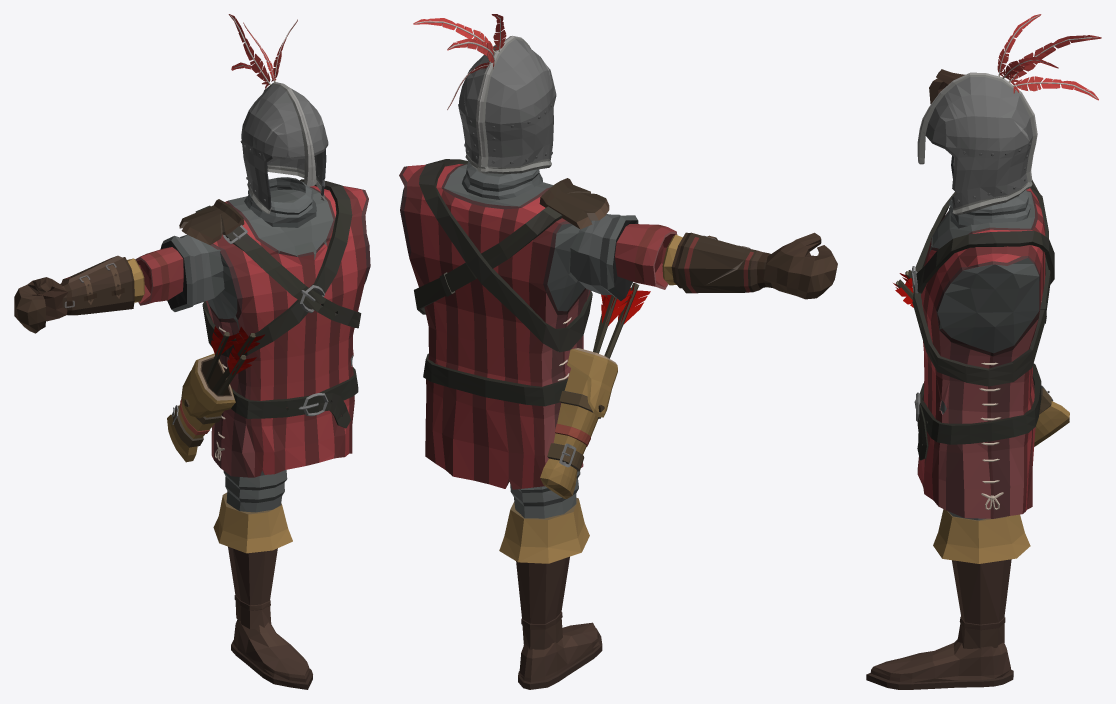
The model's file is stripedArmor.glb.
3 views of the same model, side by side, from view 1: azimuth 30°, elevation 25°; view 2: azimuth 150°, elevation 25°; view 3: azimuth 270°, elevation 25° (orthographic). The views are drawn at different scales.
Parts seen in each view (by area): view 1: stripedArmor, stripedArmorBelt, stripedArmorHelm, stripedArmorLowerLeg, yellowSideQuiver, stripedArmorUpperArm, stripedArmorLowerArm, stripedArmorFootLeg, stripedArmorHandArm, stripedArmorUpperLeg, crossBowKnighta; view 2: stripedArmor, stripedArmorBelt, stripedArmorHelm, yellowSideQuiver, stripedArmorLowerLeg, stripedArmorUpperArm, stripedArmorLowerArm, stripedArmorHandArm, stripedArmorFootLeg, crossBowKnighta, stripedArmorUpperLeg; view 3: stripedArmor, stripedArmorHelm, stripedArmorBelt, stripedArmorLowerLeg, stripedArmorFootLeg, yellowSideQuiver, crossBowKnighta, stripedArmorHandArm.
Boxes of the visible parts, left/top/right/bottom form: stripedArmor: left=206, top=185, right=370, bottom=477; stripedArmorBelt: left=179, top=179, right=361, bottom=428; stripedArmorHelm: left=228, top=14, right=328, bottom=213; stripedArmorLowerLeg: left=213, top=492, right=292, bottom=629; yellowSideQuiver: left=167, top=326, right=264, bottom=462; stripedArmorUpperArm: left=135, top=234, right=224, bottom=311; stripedArmorLowerArm: left=60, top=255, right=144, bottom=315; stripedArmorFootLeg: left=231, top=620, right=312, bottom=689; stripedArmorHandArm: left=14, top=277, right=67, bottom=333; stripedArmorUpperLeg: left=223, top=470, right=287, bottom=512; crossBowKnighta: left=244, top=177, right=316, bottom=227; stripedArmor: left=399, top=164, right=590, bottom=489; stripedArmorBelt: left=414, top=159, right=609, bottom=406; stripedArmorHelm: left=413, top=14, right=556, bottom=174; yellowSideQuiver: left=540, top=283, right=650, bottom=498; stripedArmorLowerLeg: left=499, top=497, right=589, bottom=649; stripedArmorUpperArm: left=570, top=214, right=677, bottom=300; stripedArmorLowerArm: left=662, top=232, right=773, bottom=293; stripedArmorHandArm: left=763, top=232, right=837, bottom=299; stripedArmorFootLeg: left=518, top=622, right=602, bottom=689; crossBowKnighta: left=462, top=161, right=542, bottom=199; stripedArmorUpperLeg: left=510, top=471, right=580, bottom=518; stripedArmor: left=917, top=188, right=1045, bottom=518; stripedArmorHelm: left=917, top=14, right=1101, bottom=214; stripedArmorBelt: left=911, top=180, right=1054, bottom=460; stripedArmorLowerLeg: left=933, top=509, right=1030, bottom=648; stripedArmorFootLeg: left=866, top=639, right=1013, bottom=689; yellowSideQuiver: left=893, top=270, right=1069, bottom=446; crossBowKnighta: left=948, top=190, right=1030, bottom=228; stripedArmorHandArm: left=929, top=69, right=965, bottom=104.
Bounding box in the file's own units: 1.38 × 2.18 × 0.6906.
